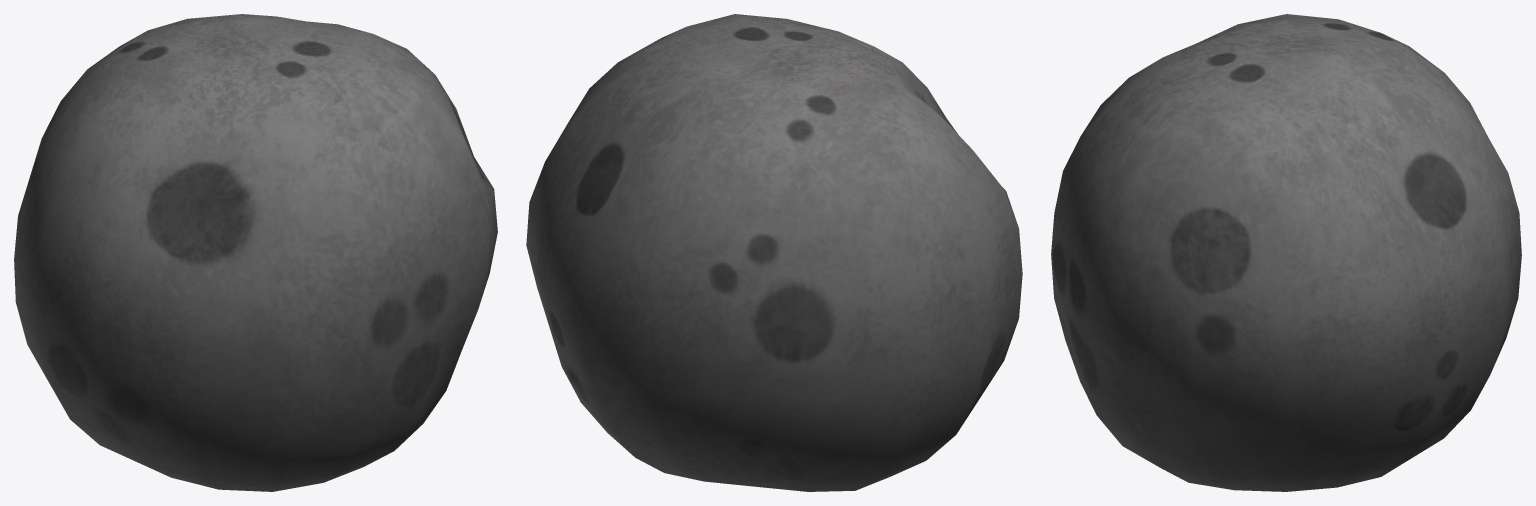
File: AsteroidLarge.fbx
The picture shows the model from 3 angles, left to right: view 1: azimuth 30°, elevation 25°; view 2: azimuth 150°, elevation 25°; view 3: azimuth 270°, elevation 25°; orthographic projection.
Visible parts, largest first — view 1: AsteroidLarge; view 2: AsteroidLarge; view 3: AsteroidLarge.
Boxes of the visible parts, x1,y1,x2,y2 form: AsteroidLarge: (14,14,497,491); AsteroidLarge: (526,14,1022,491); AsteroidLarge: (1051,14,1521,491).
Bounding box in the file's own units: 204 × 183 × 191.
